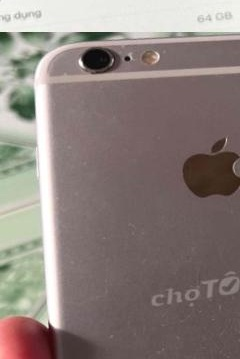scratch: (106, 297, 240, 359), (50, 32, 148, 88)
